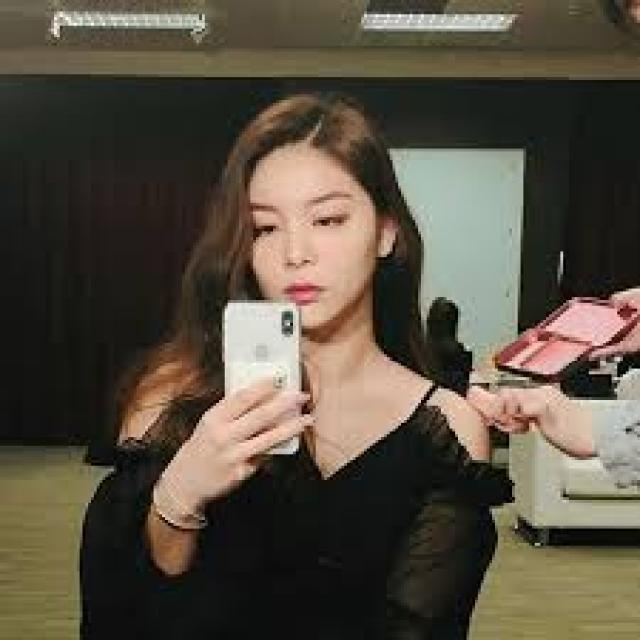Phone: (220, 301, 304, 452)
